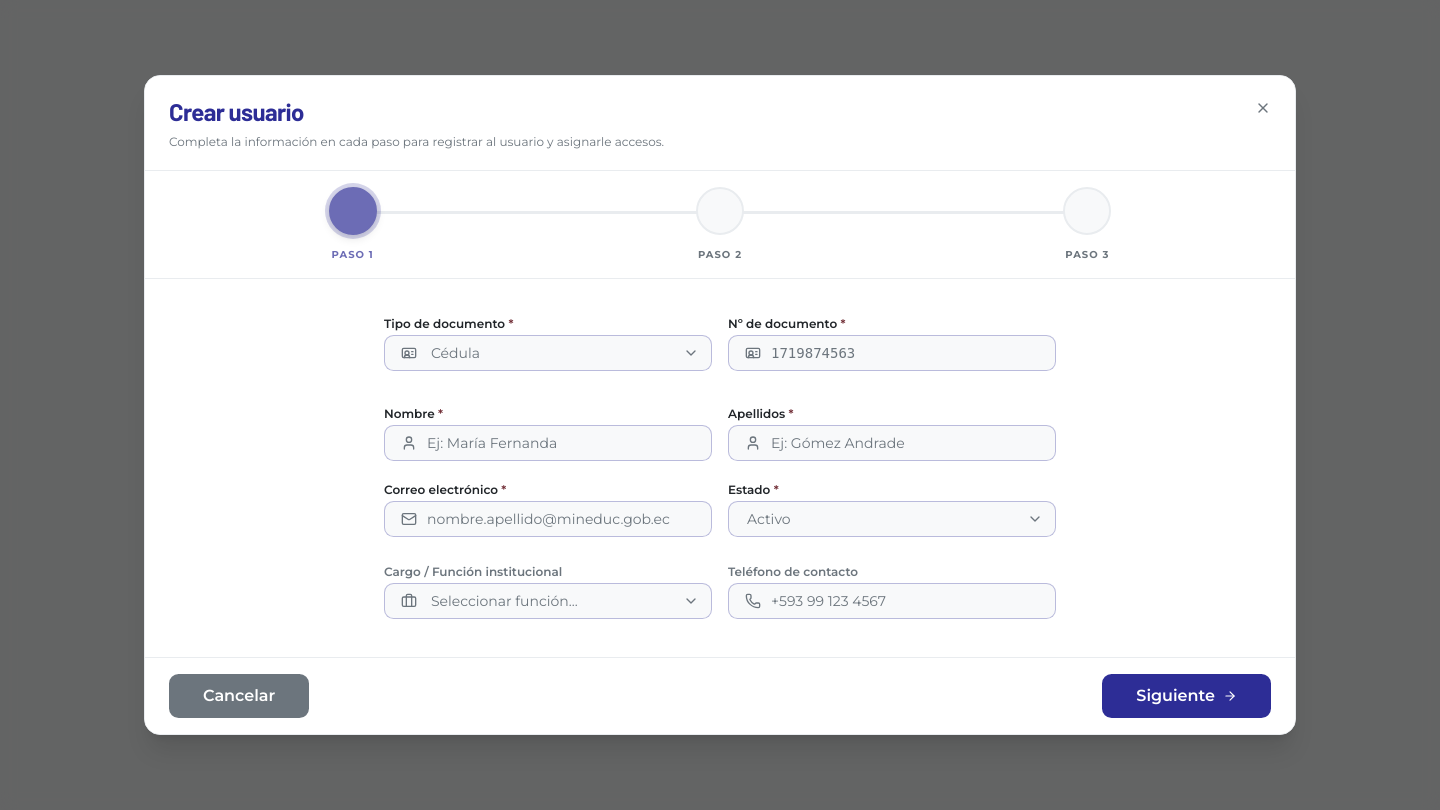
it: UsuarioModalForm - Document and Phone Validations › sanitizes document number input to allow only digits and limits to 20 characters
Type letters and special characters mixed with numbers
In the field with placeholder "1719874563": (904, 353) 761,336 -> 1047,370, type "171abc-9874563_extra123456789012345"
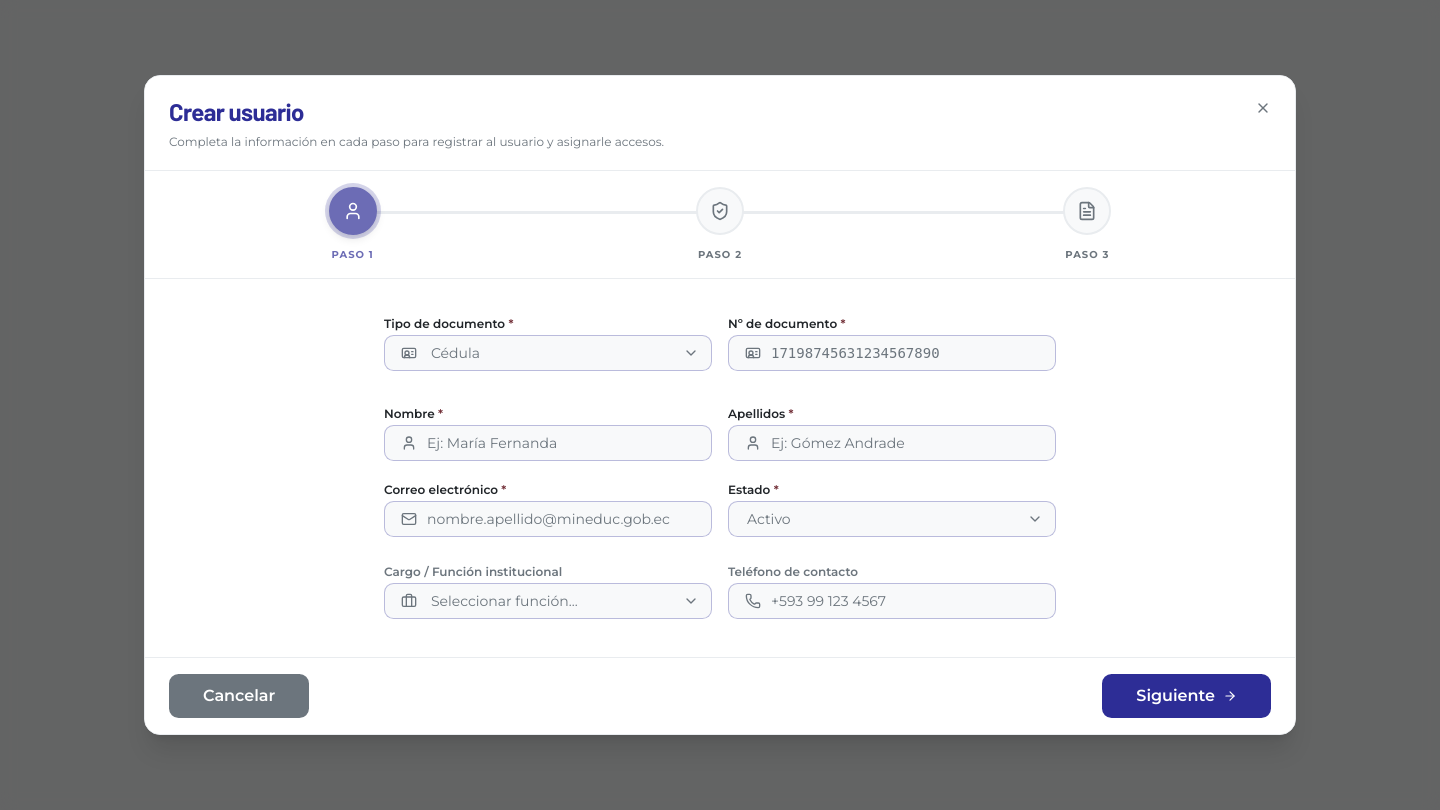
Expected: the field with placeholder "1719874563" holds "17198745631234567890", 761,336 -> 1047,370
